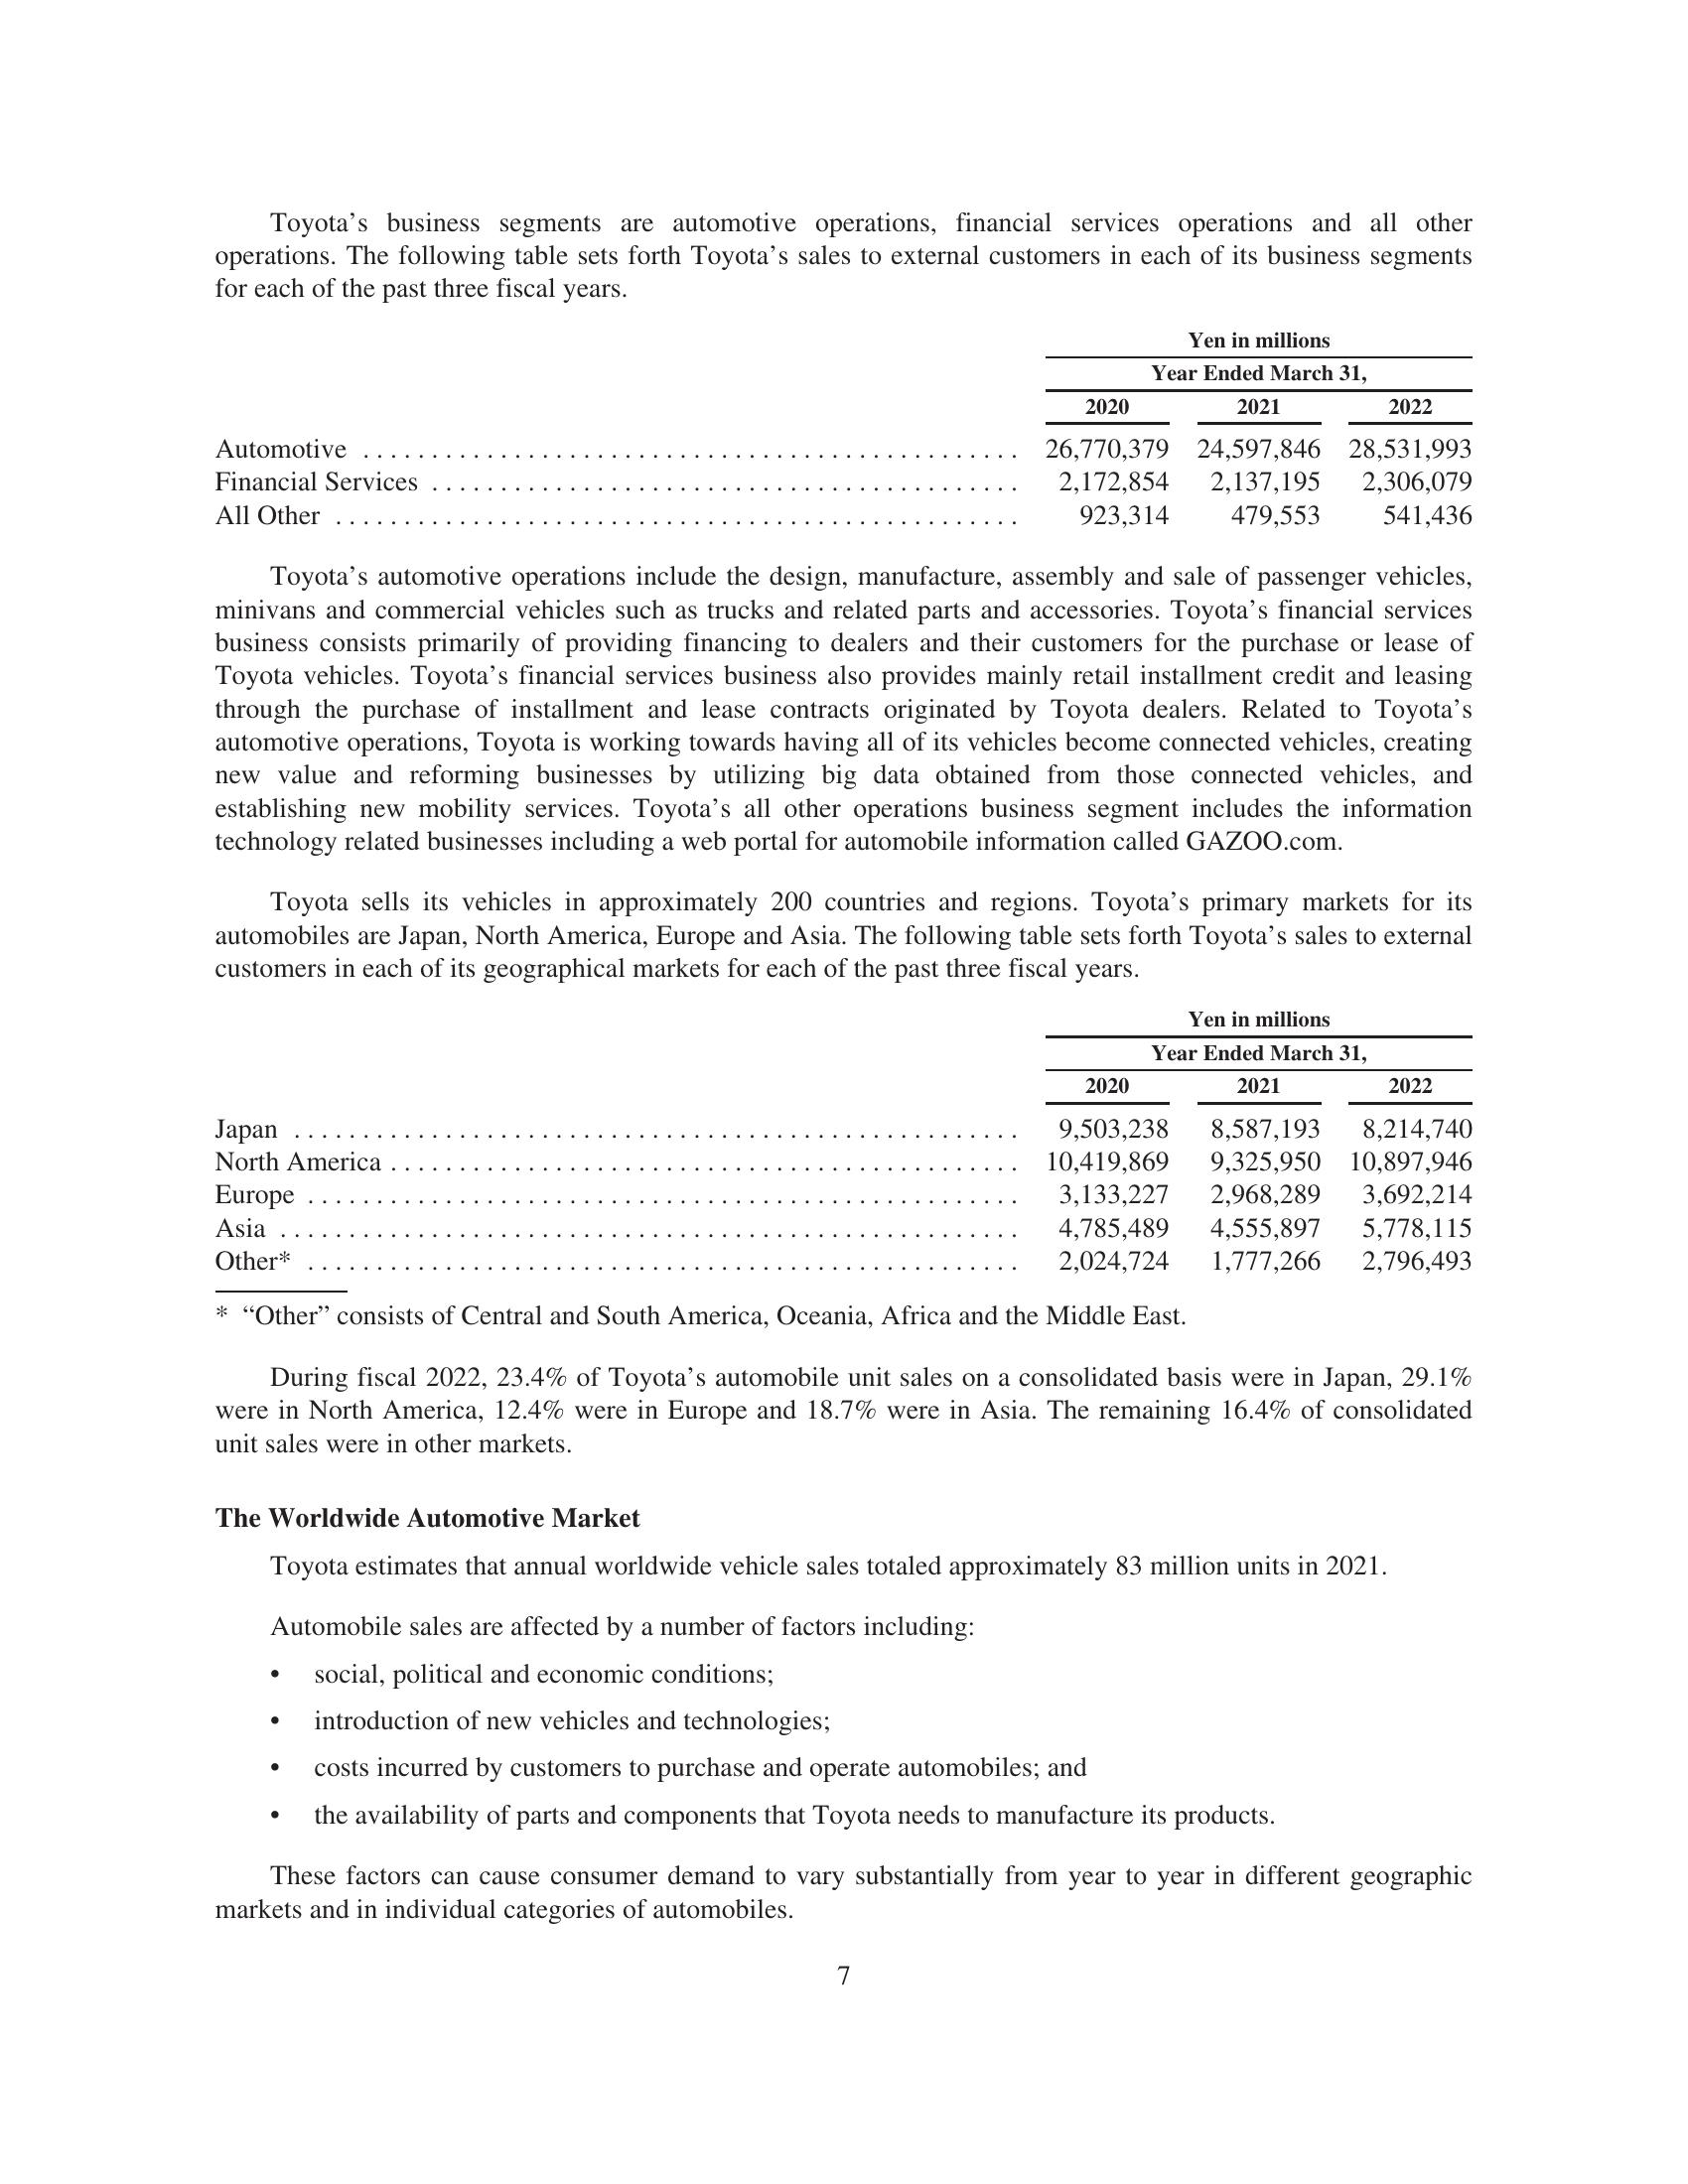Footer: (0, 1941, 1688, 2184)
Header: (0, 0, 1688, 188)
Table: (163, 1005, 1500, 1294), (193, 319, 1500, 541)
